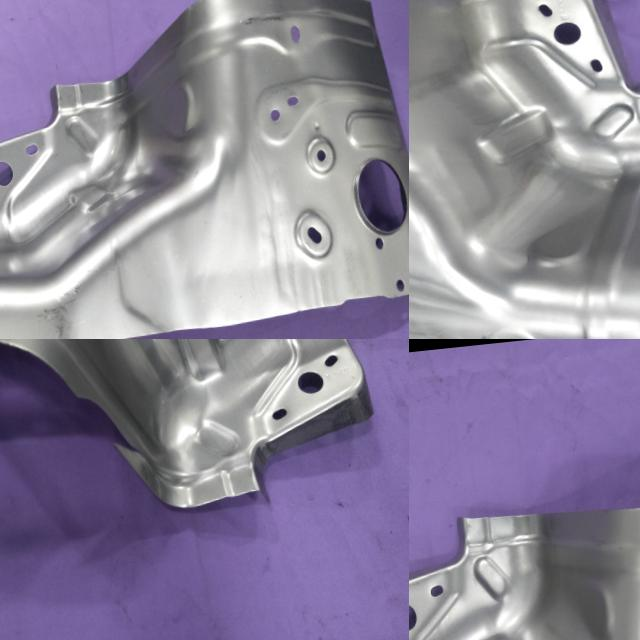Defect: (71, 383, 159, 475)
Healthy: (409, 0, 640, 339), (409, 475, 640, 640)
rust: (217, 0, 296, 35)
